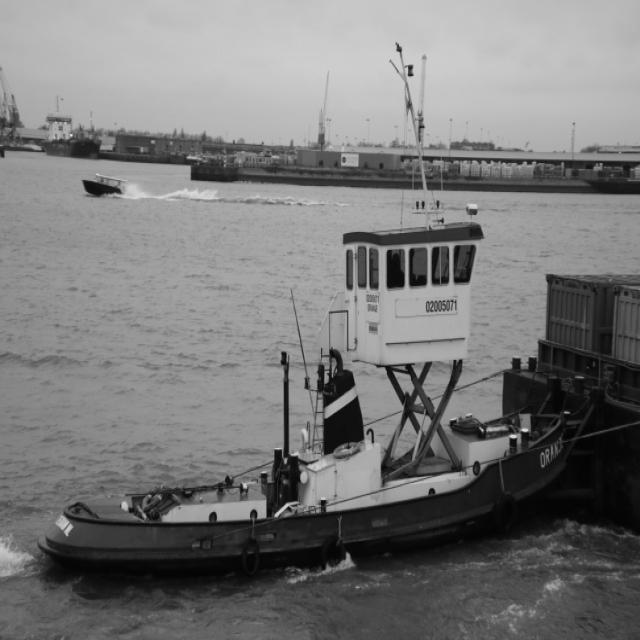tugboat: (33, 209, 578, 598)
